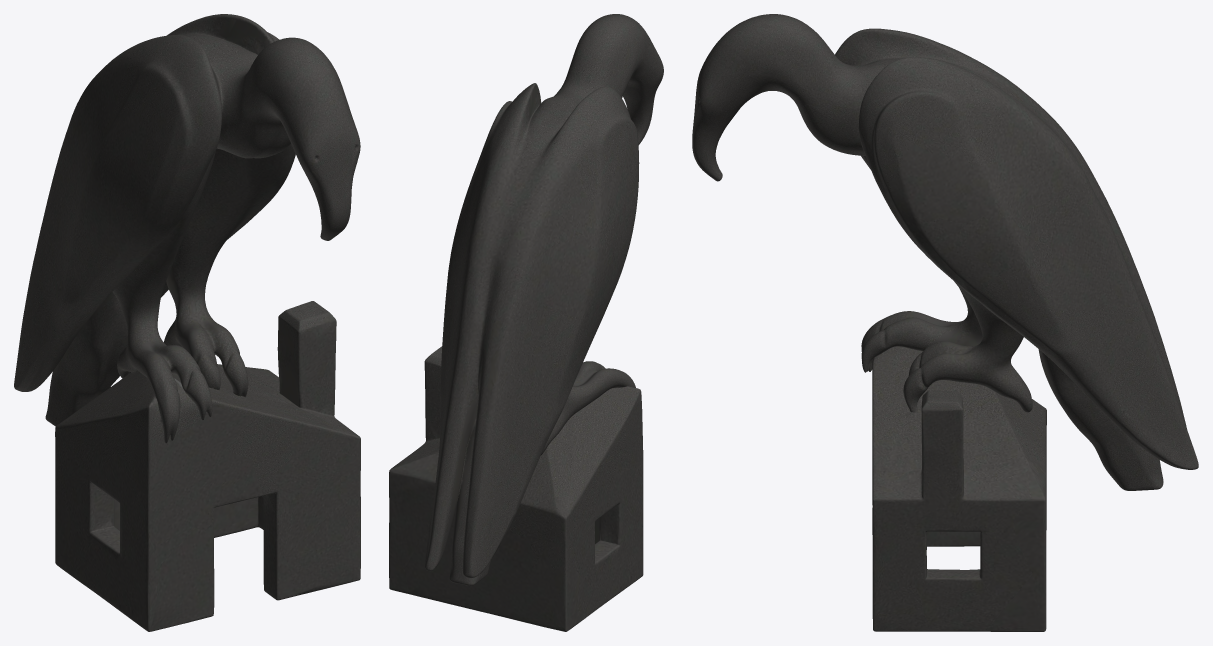
Rendered from vulture.glb.
3 renders of one model, left to right at view 1: azimuth 30°, elevation 25°; view 2: azimuth 150°, elevation 25°; view 3: azimuth 270°, elevation 25°, orthographic. The views are drawn at different scales.
Size of the model in its own units: 0.7119 by 1.9 by 1.55.
Materials: 1 (1 with a texture image).
